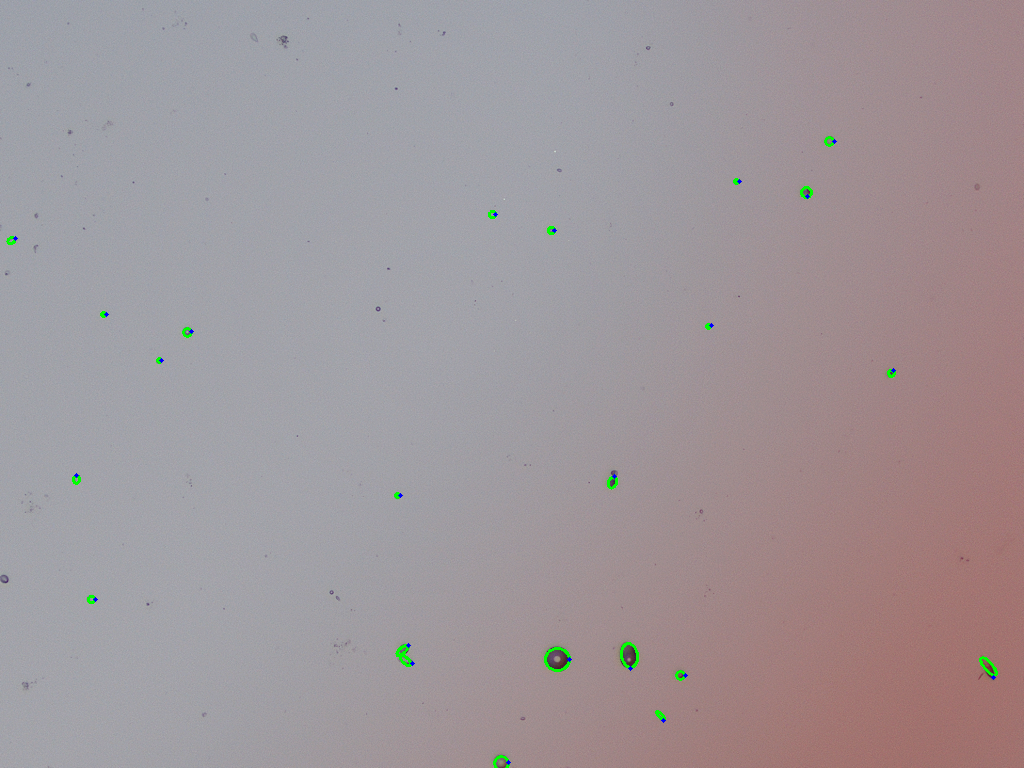circle: (545, 647, 569, 671), (493, 755, 508, 768), (825, 136, 834, 145), (182, 327, 191, 336), (676, 670, 685, 679), (87, 595, 95, 603), (489, 211, 495, 218), (548, 227, 555, 233), (733, 178, 739, 184), (394, 492, 400, 498), (101, 311, 106, 317), (156, 358, 161, 363), (706, 323, 711, 328)
ellipse: (607, 475, 617, 488), (801, 186, 811, 199), (73, 474, 80, 484)
